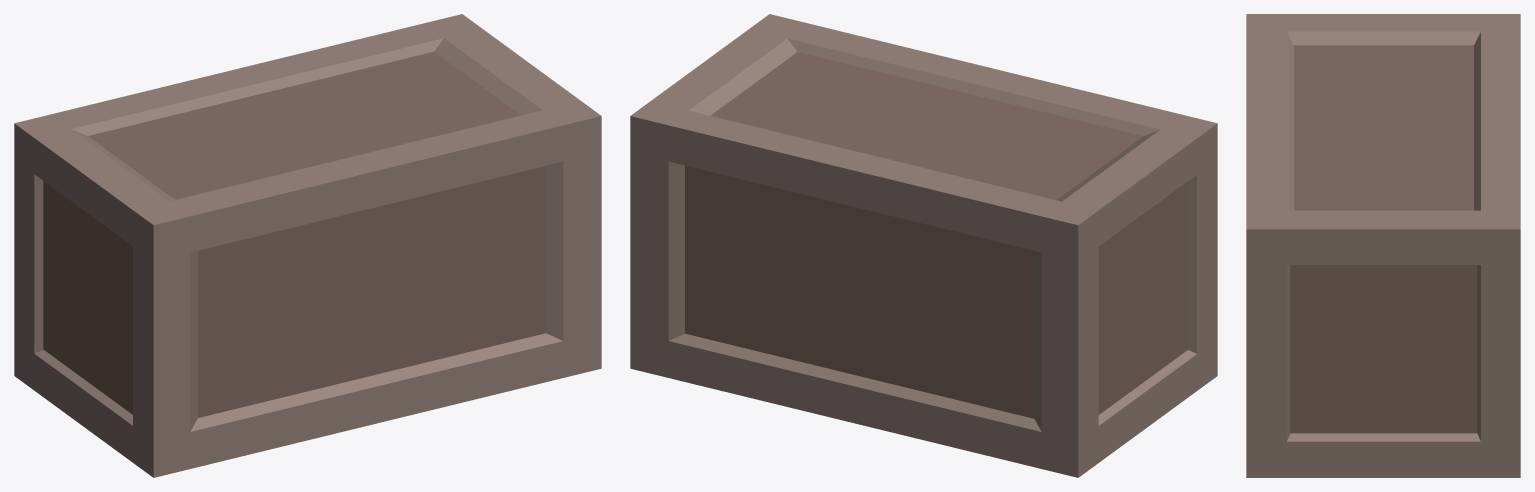
The picture shows the model from 3 angles, left to right: view 1: azimuth 30°, elevation 25°; view 2: azimuth 150°, elevation 25°; view 3: azimuth 270°, elevation 25°; orthographic projection.
Visible parts, largest first — view 1: box_010; view 2: box_010; view 3: box_010.
Boxes of the visible parts, left/top/right/bottom form: box_010: left=14, top=14, right=601, bottom=477; box_010: left=630, top=14, right=1217, bottom=477; box_010: left=1246, top=14, right=1520, bottom=477.
Bounding box in the file's own units: 1.16 × 0.6227 × 0.6227.
1 material, 1 textured.
